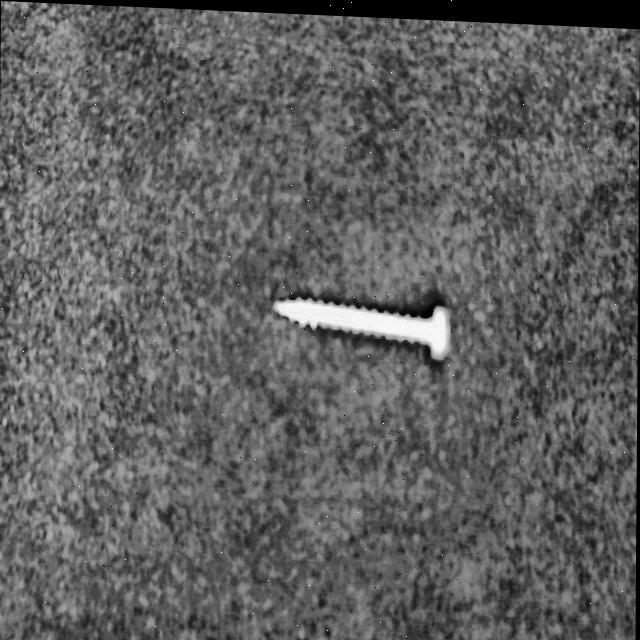Sheet metal screw: (272, 290, 449, 353)
